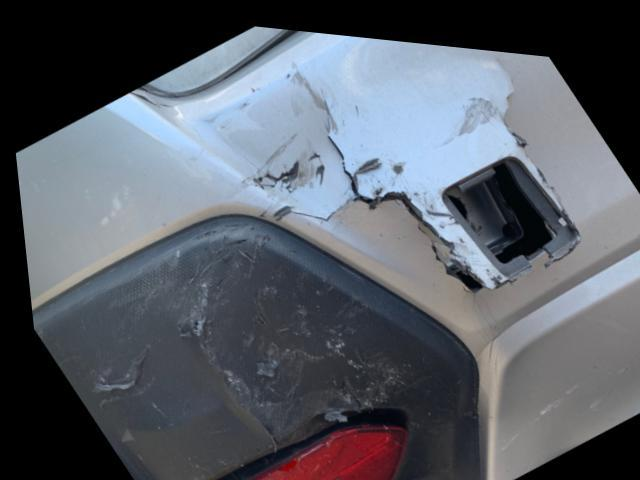crack: (289, 72, 490, 294)
no part: (445, 143, 579, 270)
